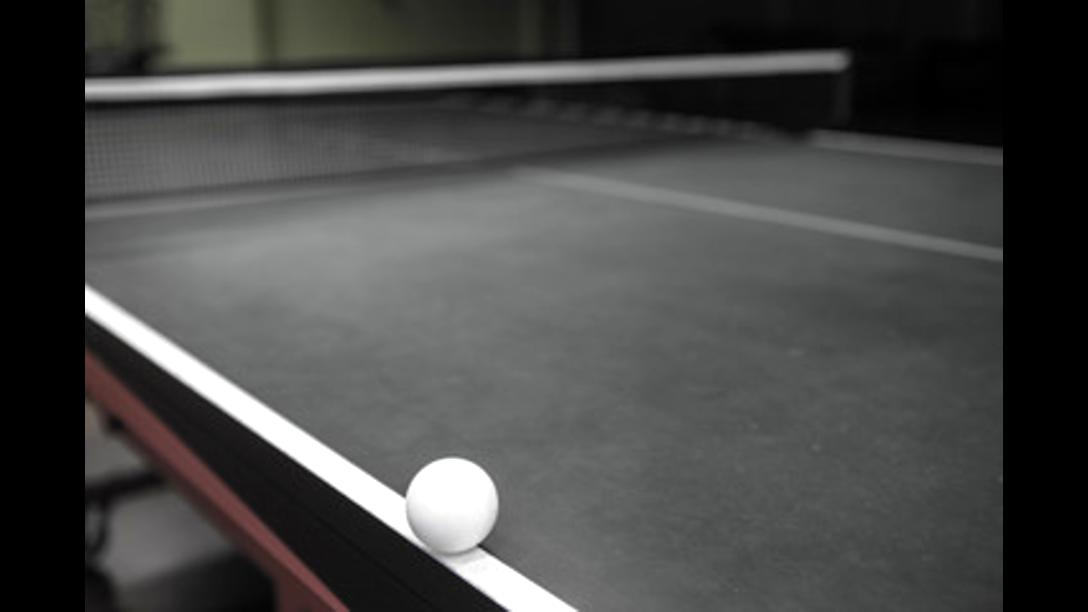Table-Tennis-Ball: (407, 457, 498, 553)
